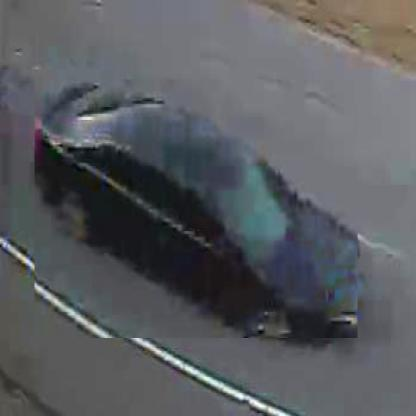car: (36, 81, 360, 341)
